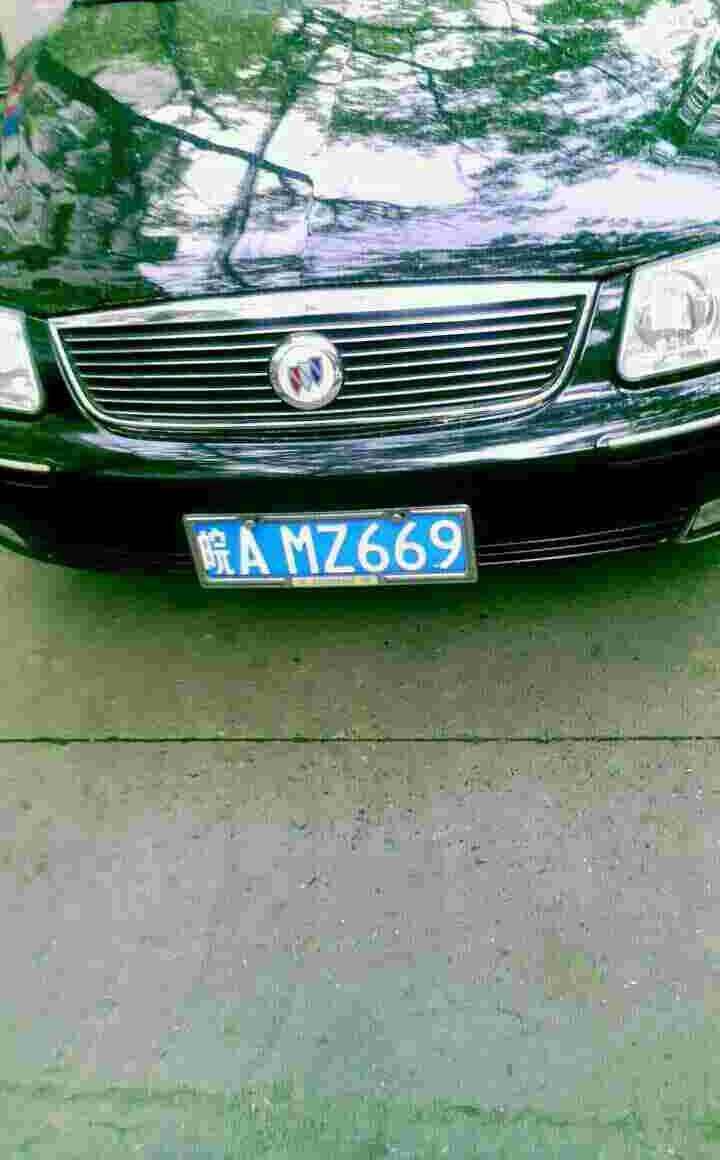car: (182, 511, 479, 586)
